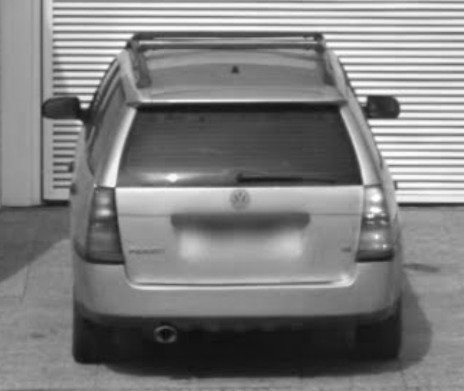car: (42, 34, 412, 362)
